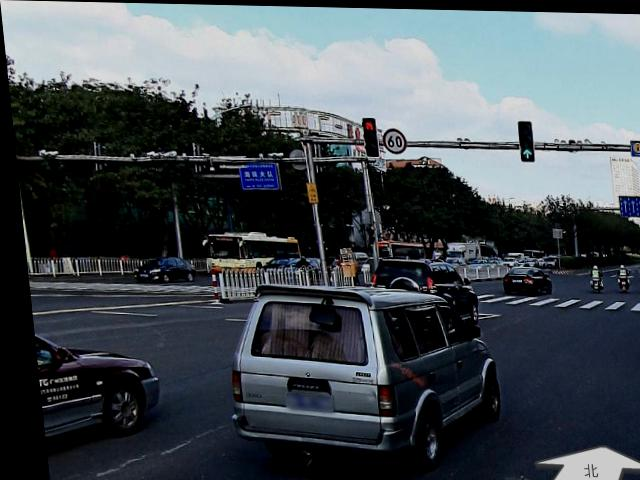limit60: (378, 126, 405, 153)
